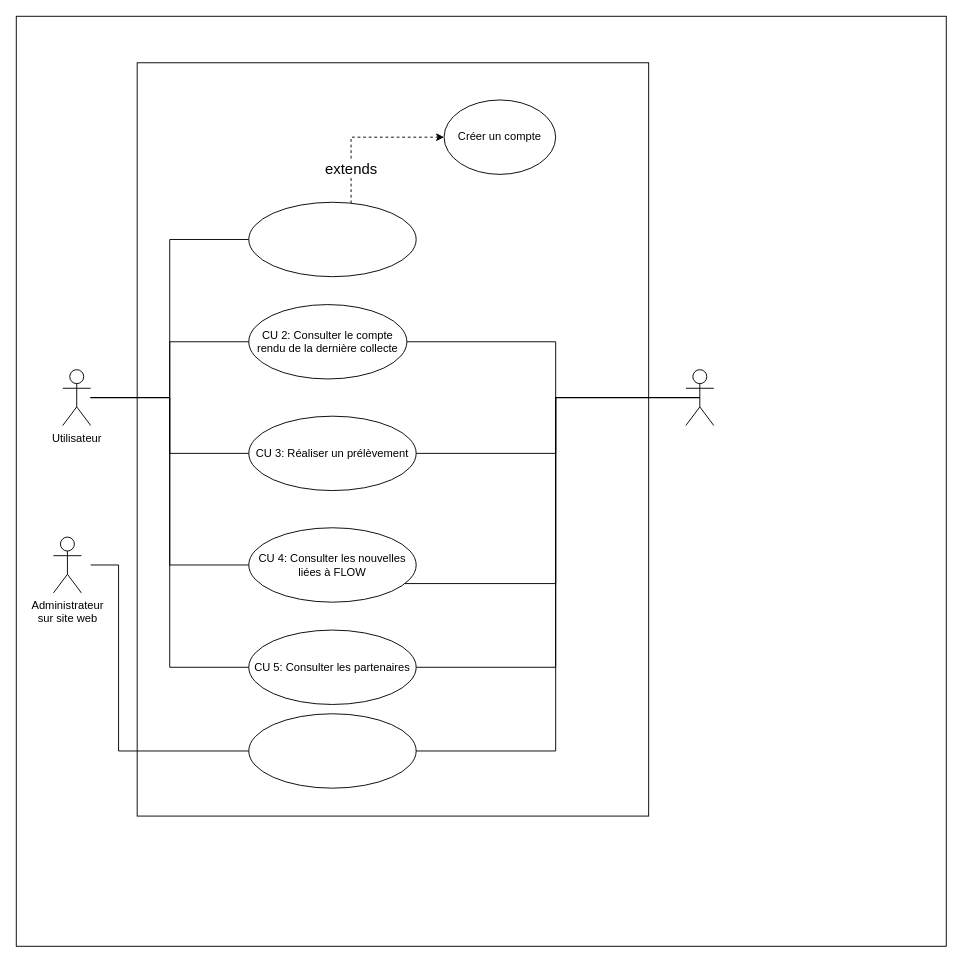
Image size: 963x963. Some labels were removed from this diagram. Here are the shapes that lost their labels. From the top down, the centre of each, then its label:
At pixel 332 239: "CU 1: Accéder aux paramètres de compte".
At pixel 699 397: "MongoDB".
At pixel 332 750: "CU 6: Consulter le Tableau de bord".
